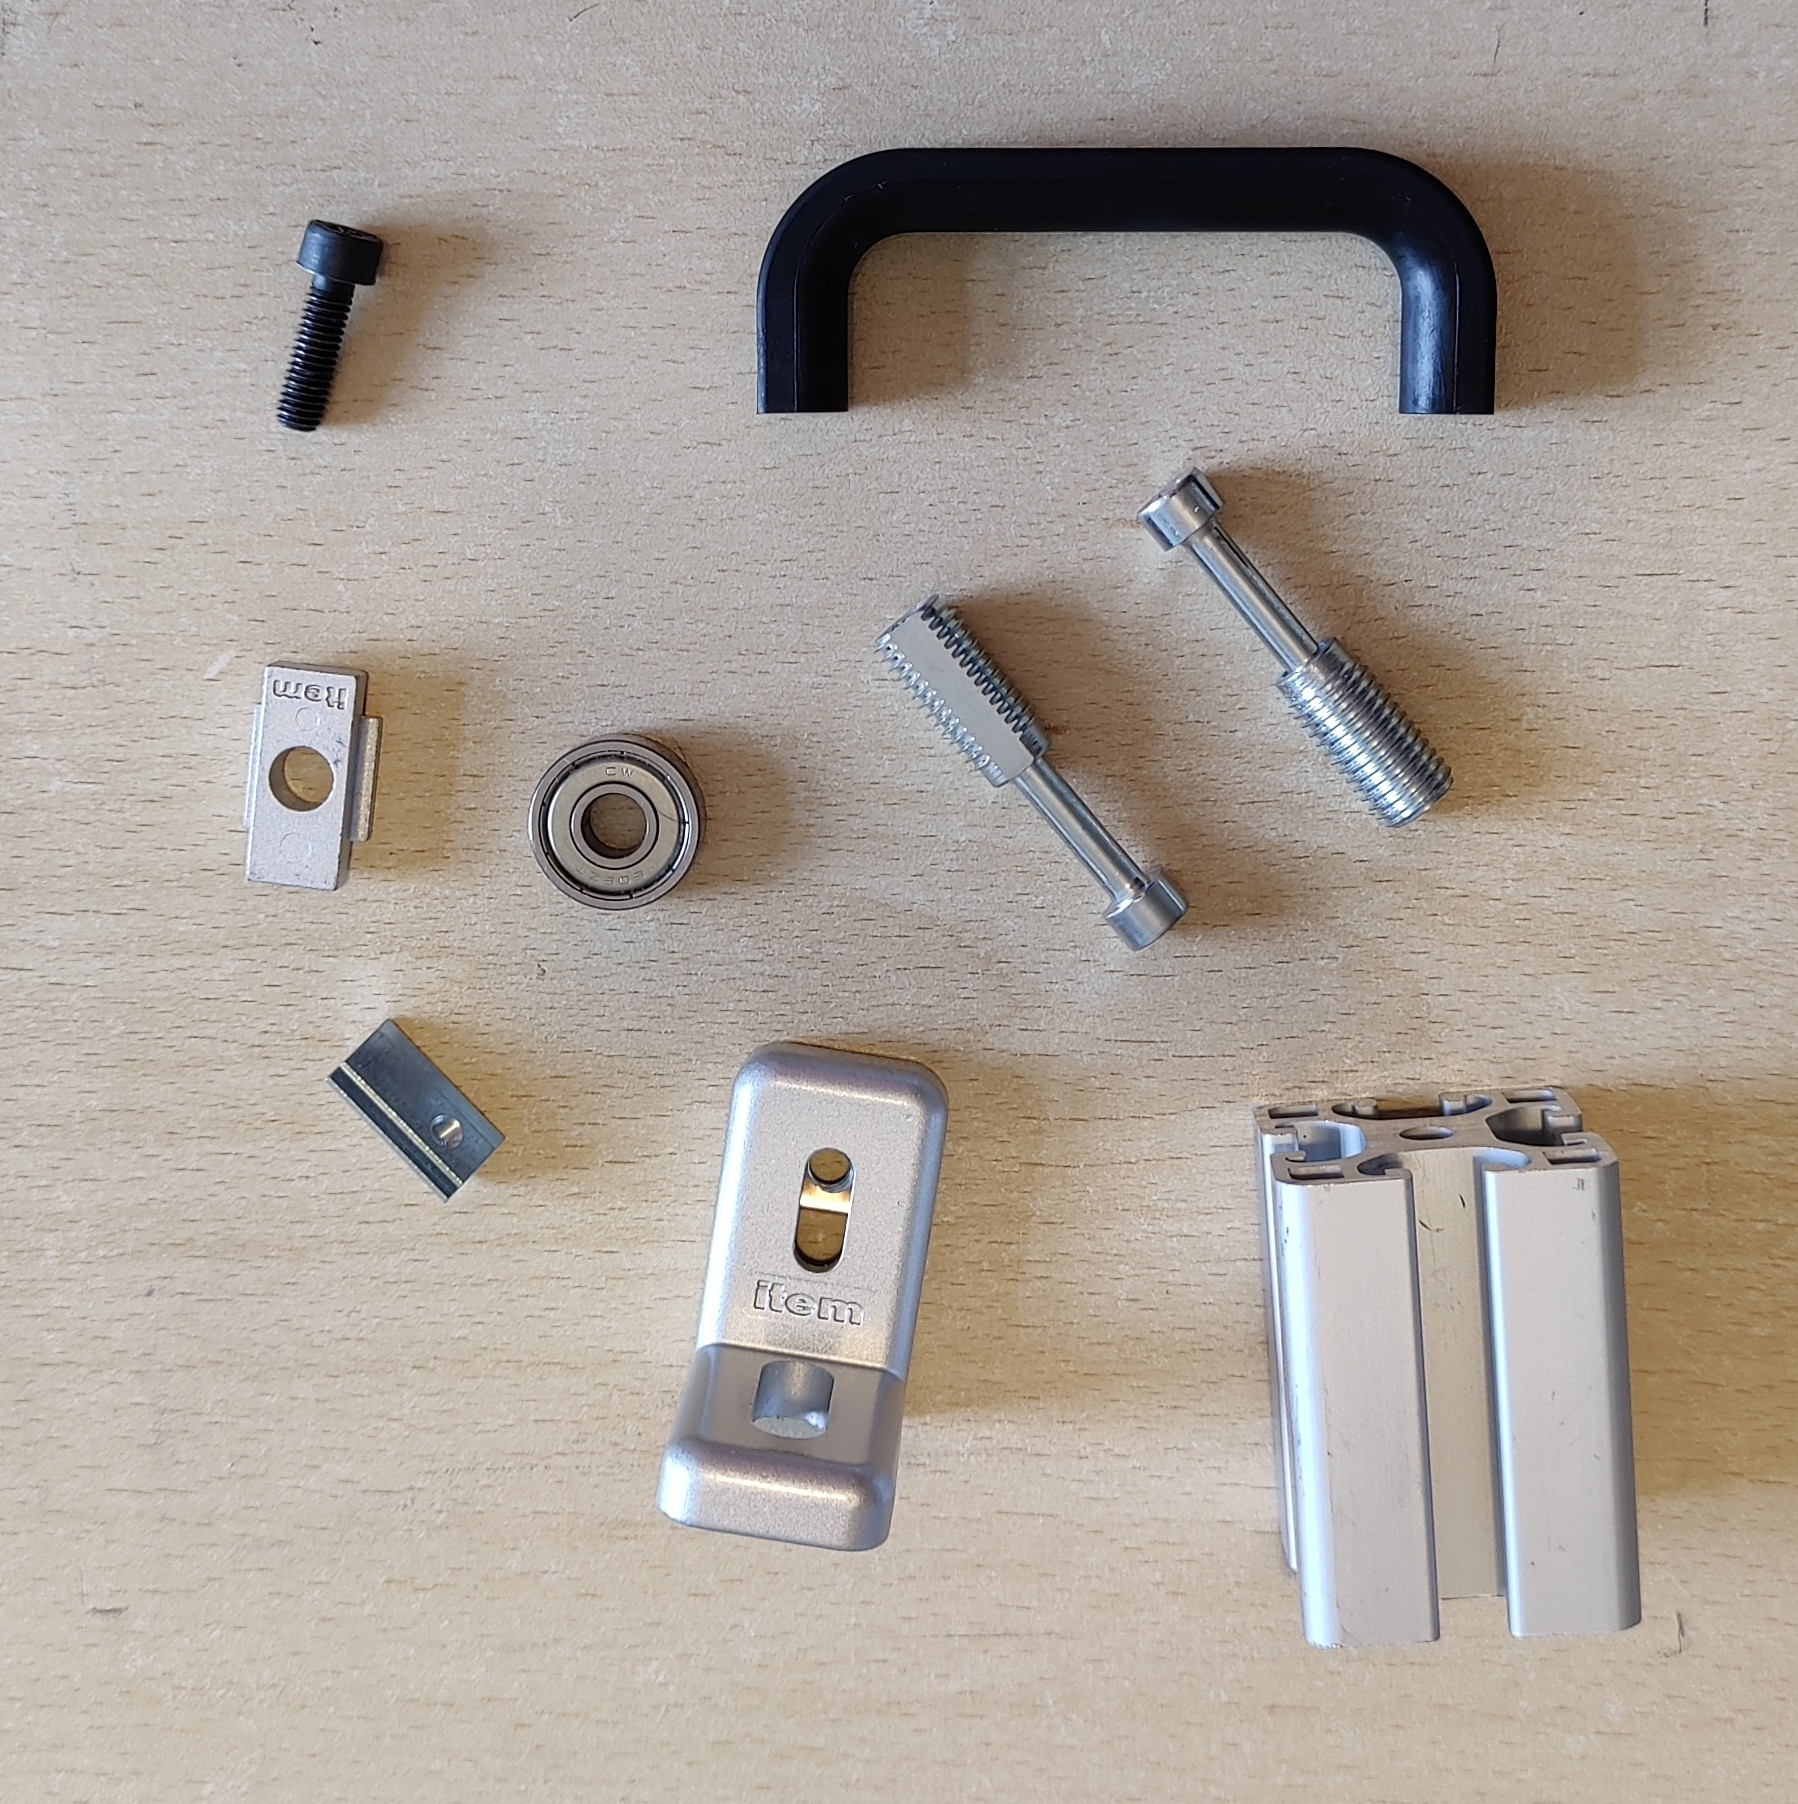Aluminium Extension: (1248, 1085, 1643, 1653)
Ball Bearing: (524, 732, 706, 912)
Multiwinkel: (659, 1035, 952, 1555)
Pull Handle: (752, 142, 1503, 418)
Shoulder Socket Head Cap Screw: (1138, 463, 1459, 830), (874, 593, 1194, 956)
Socket Head Cap Screw: (273, 216, 385, 435)
T Nut Square: (235, 658, 384, 894)
T Spring Nut: (324, 1014, 507, 1207)
